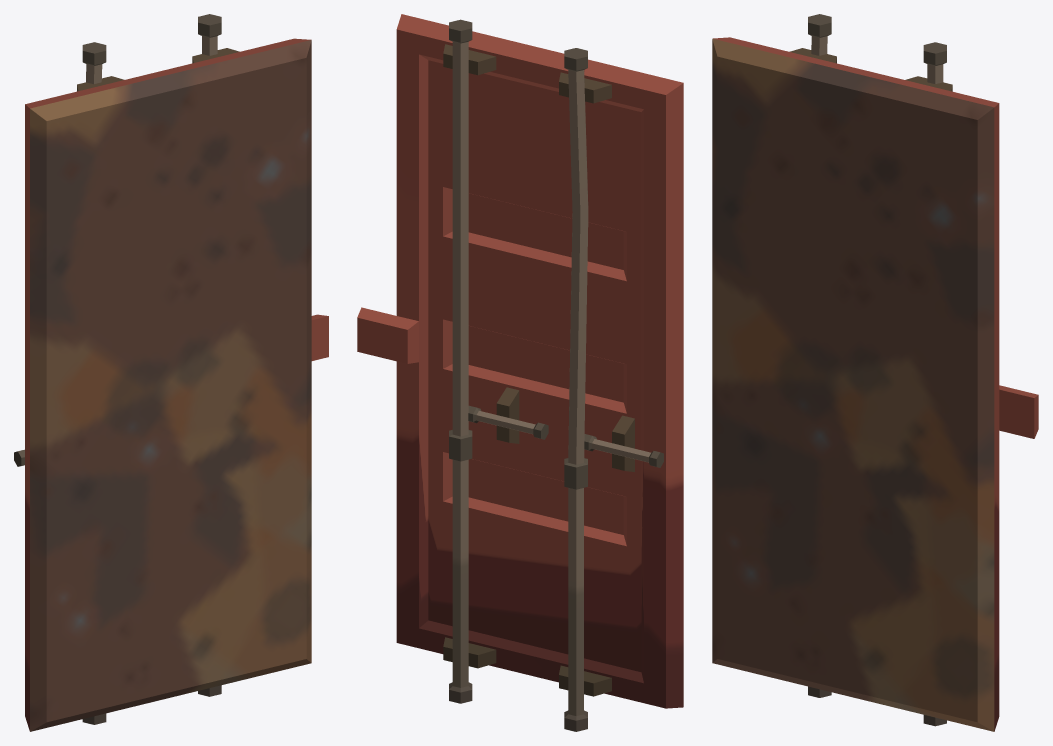
File: SM_Prop_Shipping_Container_Door_04.obj
3 renders of one model, left to right at view 1: azimuth 30°, elevation 25°; view 2: azimuth 150°, elevation 25°; view 3: azimuth 330°, elevation 25°, orthographic.
Visible parts, largest first — view 1: SM_Prop_Shipping_Container_Door_04_0; view 2: SM_Prop_Shipping_Container_Door_04_0; view 3: SM_Prop_Shipping_Container_Door_04_0.
Part boxes in pixels (x1=…): SM_Prop_Shipping_Container_Door_04_0: x1=14, y1=14, x2=328, y2=731; SM_Prop_Shipping_Container_Door_04_0: x1=357, y1=14, x2=683, y2=731; SM_Prop_Shipping_Container_Door_04_0: x1=712, y1=14, x2=1038, y2=731.
Size of the model in its own units: 1.18 by 2.44 by 0.2181.
1 material, 1 textured.
